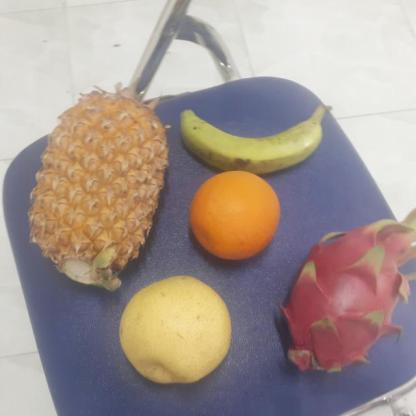banana: (174, 90, 318, 173)
orange: (185, 172, 280, 260)
pear: (112, 272, 234, 384)
pineapple: (26, 96, 168, 286)
pitaya: (281, 223, 415, 375)
